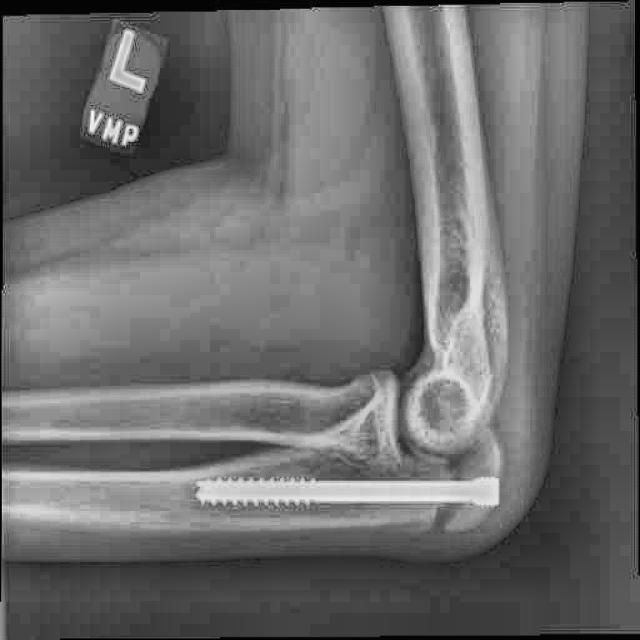elbow positive: (410, 499, 476, 547)
